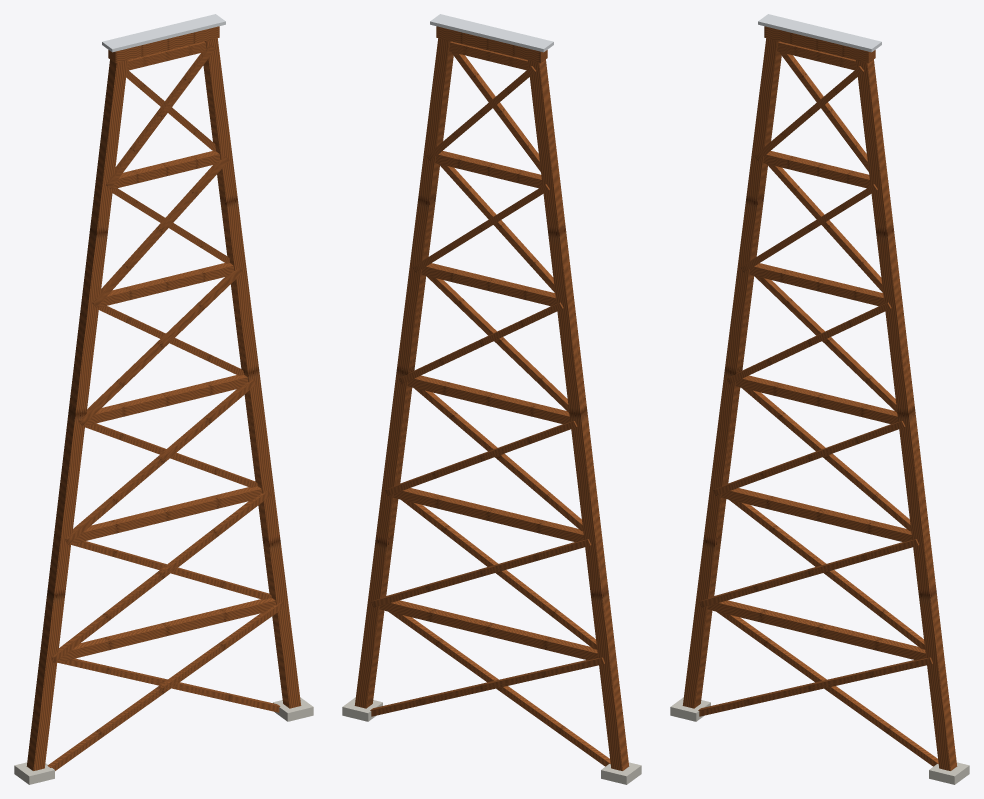
The model's file is theme-park-rides-and-coasters-theme-park-rides-and-coa-a7c8c759__28651.glb.
3 renders of one model, left to right at view 1: azimuth 30°, elevation 25°; view 2: azimuth 150°, elevation 25°; view 3: azimuth 330°, elevation 25°, orthographic.
Parts seen in each view (by area): view 1: theme-park-rides-and-coasters-trestle-bent-tall; view 2: theme-park-rides-and-coasters-trestle-bent-tall; view 3: theme-park-rides-and-coasters-trestle-bent-tall.
Boxes of the visible parts, left/top/right/bottom form: theme-park-rides-and-coasters-trestle-bent-tall: left=14, top=14, right=313, bottom=784; theme-park-rides-and-coasters-trestle-bent-tall: left=342, top=14, right=641, bottom=784; theme-park-rides-and-coasters-trestle-bent-tall: left=670, top=14, right=969, bottom=784.
Bounding box in the file's own units: 5.5 × 13.23 × 0.5002.
3 materials, 2 textured.
